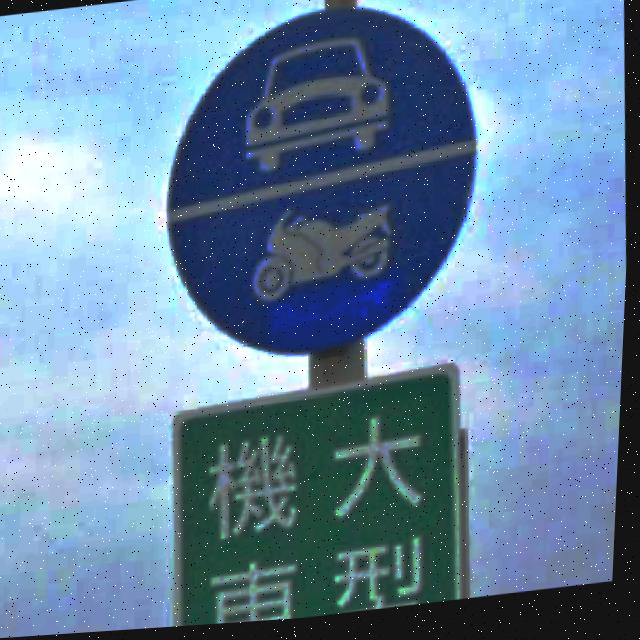carmotorcycle: (172, 13, 477, 356)
